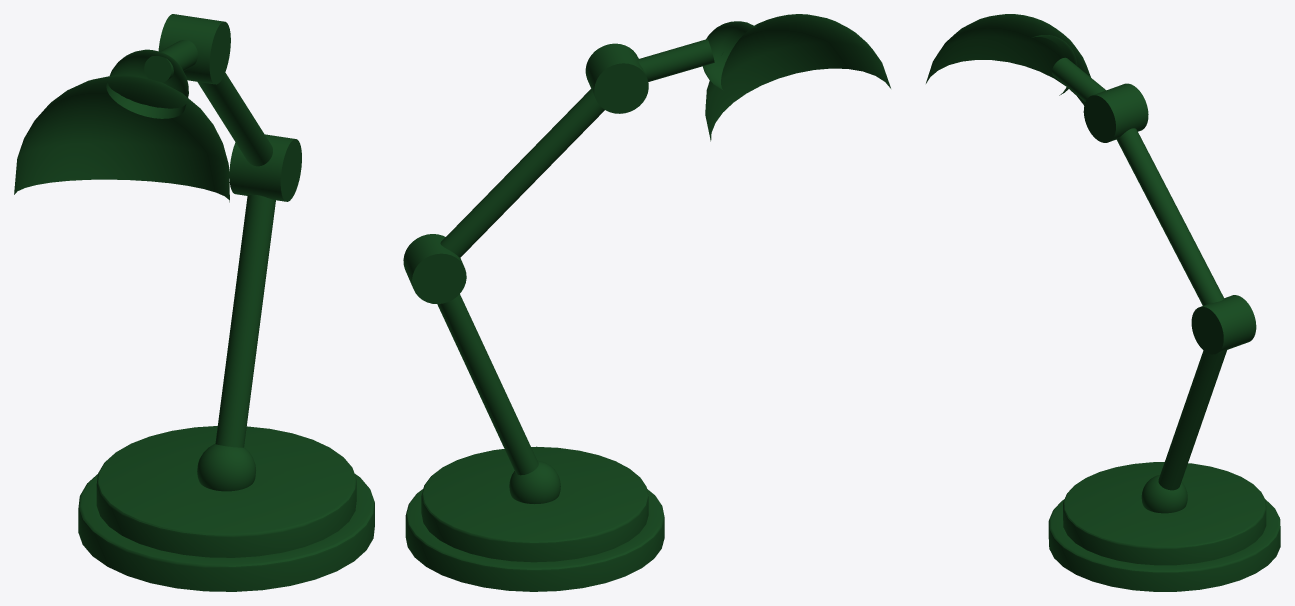
The model's file is tableLamp.glb.
3 views of the same model, side by side, from view 1: azimuth 30°, elevation 25°; view 2: azimuth 150°, elevation 25°; view 3: azimuth 270°, elevation 25° (orthographic). The views are drawn at different scales.
Parts seen in each view (by area): view 1: TableLamp, TableLampAccessories8, TableLampAccessories2, TableLampAccessories3, TableLampAccessories5, TableLampAccessories4, TableLampAccessories7, TableLampAccessories9, TableLampAccessories6; view 2: TableLamp, TableLampAccessories8, TableLampAccessories4, TableLampAccessories2, TableLampAccessories5, TableLampAccessories3, TableLampAccessories6, TableLampAccessories7, TableLampAccessories9; view 3: TableLamp, TableLampAccessories8, TableLampAccessories4, TableLampAccessories2, TableLampAccessories3, TableLampAccessories5, TableLampAccessories7, TableLampAccessories6.
Boxes of the visible parts, x1,y1,x2,y2 form: TableLamp: [78, 426, 374, 591]; TableLampAccessories8: [14, 75, 229, 202]; TableLampAccessories2: [215, 195, 275, 447]; TableLampAccessories3: [229, 134, 301, 201]; TableLampAccessories5: [158, 14, 230, 84]; TableLampAccessories4: [197, 72, 272, 166]; TableLampAccessories7: [197, 444, 255, 491]; TableLampAccessories9: [106, 49, 188, 118]; TableLampAccessories6: [144, 40, 197, 82]; TableLamp: [405, 446, 664, 591]; TableLampAccessories8: [705, 14, 890, 141]; TableLampAccessories4: [440, 89, 604, 257]; TableLampAccessories2: [437, 294, 538, 475]; TableLampAccessories5: [585, 43, 648, 113]; TableLampAccessories3: [403, 234, 466, 304]; TableLampAccessories6: [637, 39, 714, 81]; TableLampAccessories7: [509, 461, 560, 503]; TableLampAccessories9: [702, 21, 756, 90]; TableLamp: [1048, 462, 1280, 591]; TableLampAccessories8: [926, 14, 1090, 105]; TableLampAccessories4: [1116, 128, 1224, 305]; TableLampAccessories2: [1158, 350, 1226, 490]; TableLampAccessories3: [1191, 295, 1256, 354]; TableLampAccessories5: [1083, 83, 1148, 142]; TableLampAccessories7: [1141, 475, 1187, 513]; TableLampAccessories6: [1052, 57, 1105, 101].
Size of the model in its own units: 0.4442 by 0.5666 by 0.4114.
